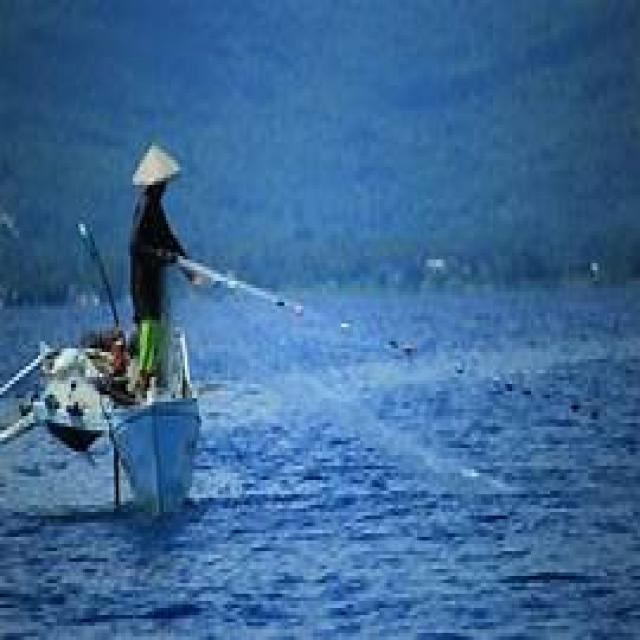Fishing Boat: (31, 102, 380, 501)
